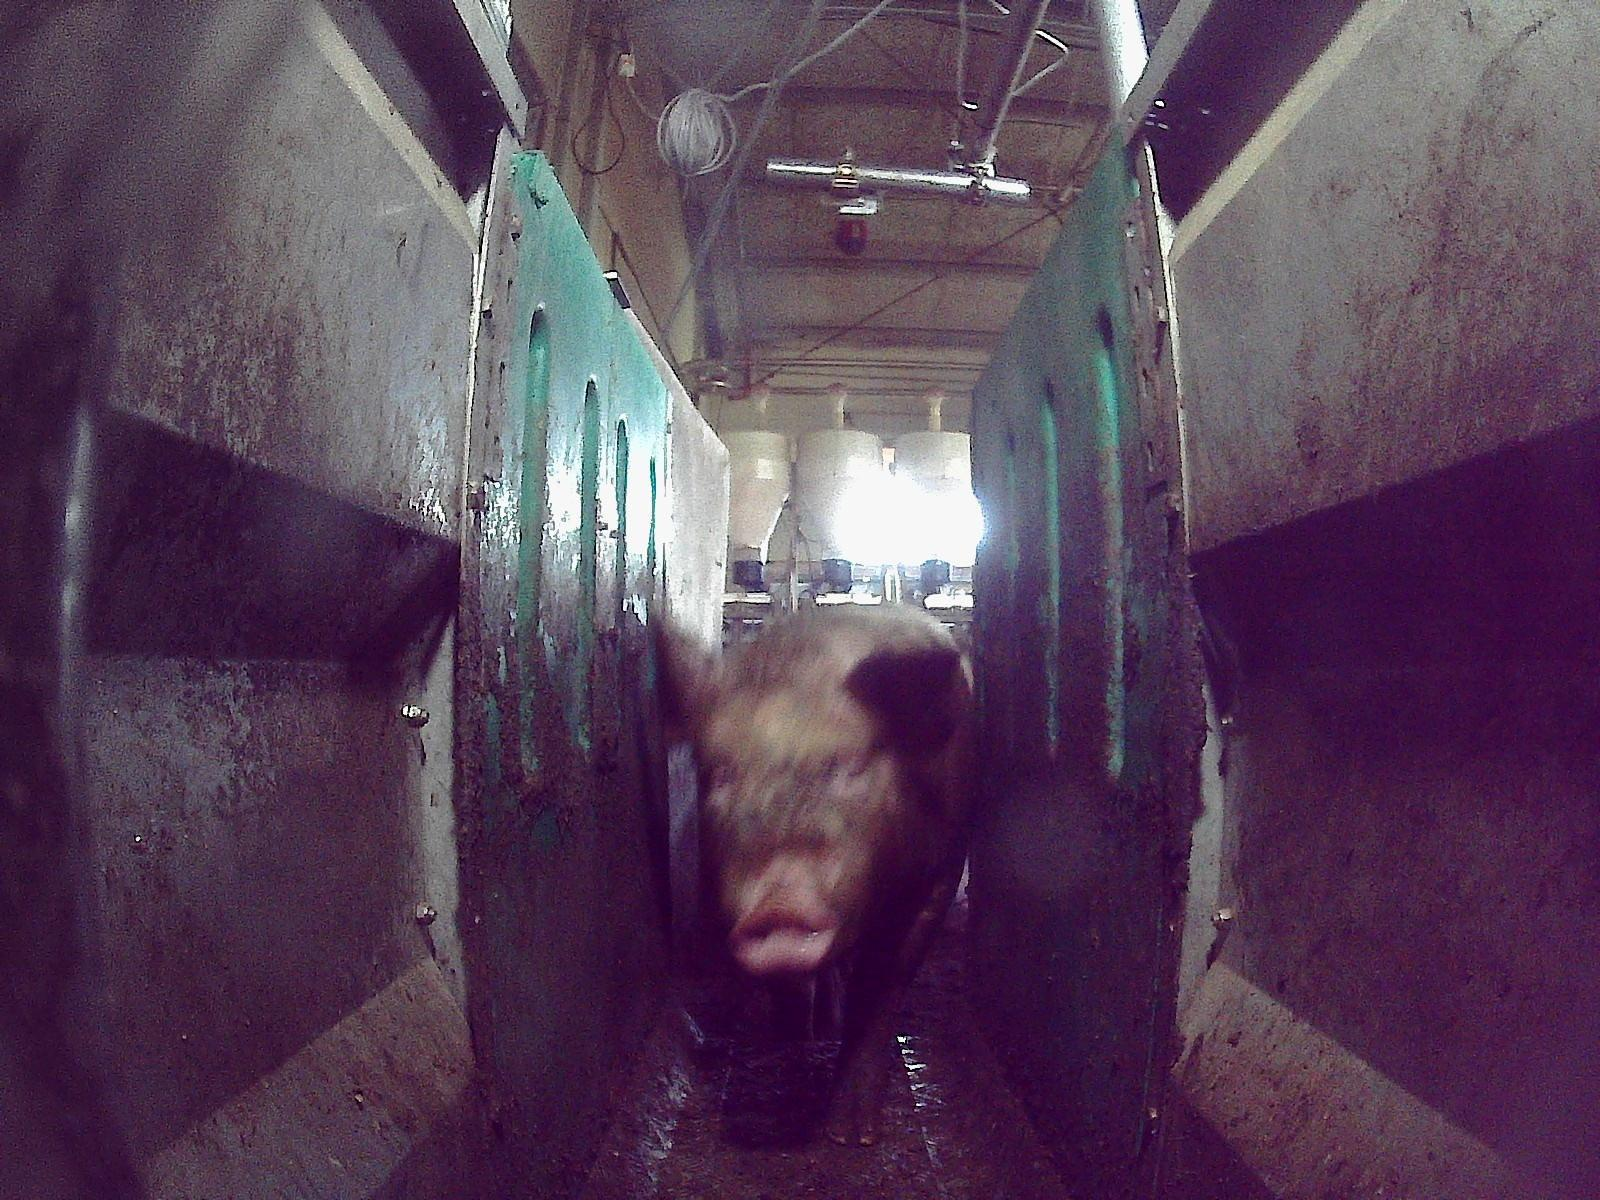Face: (697, 683, 901, 975)
